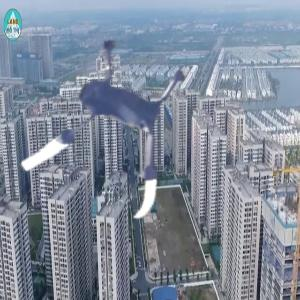drone: (3, 16, 215, 228)
